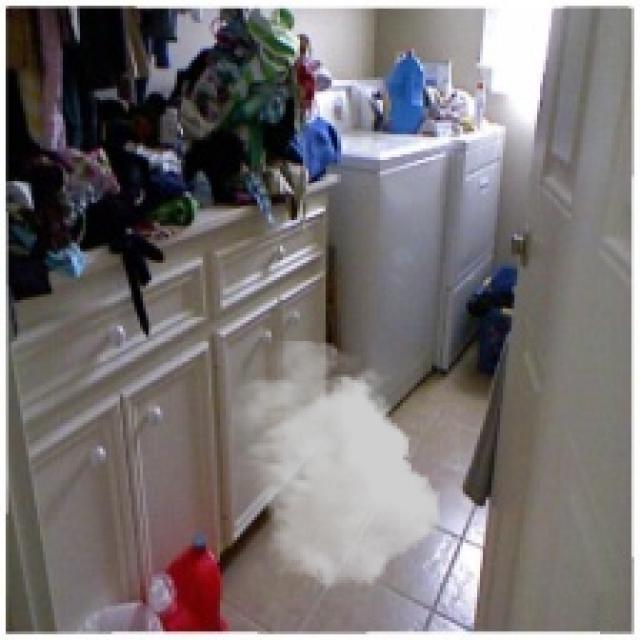smoke: (231, 340, 440, 589)
